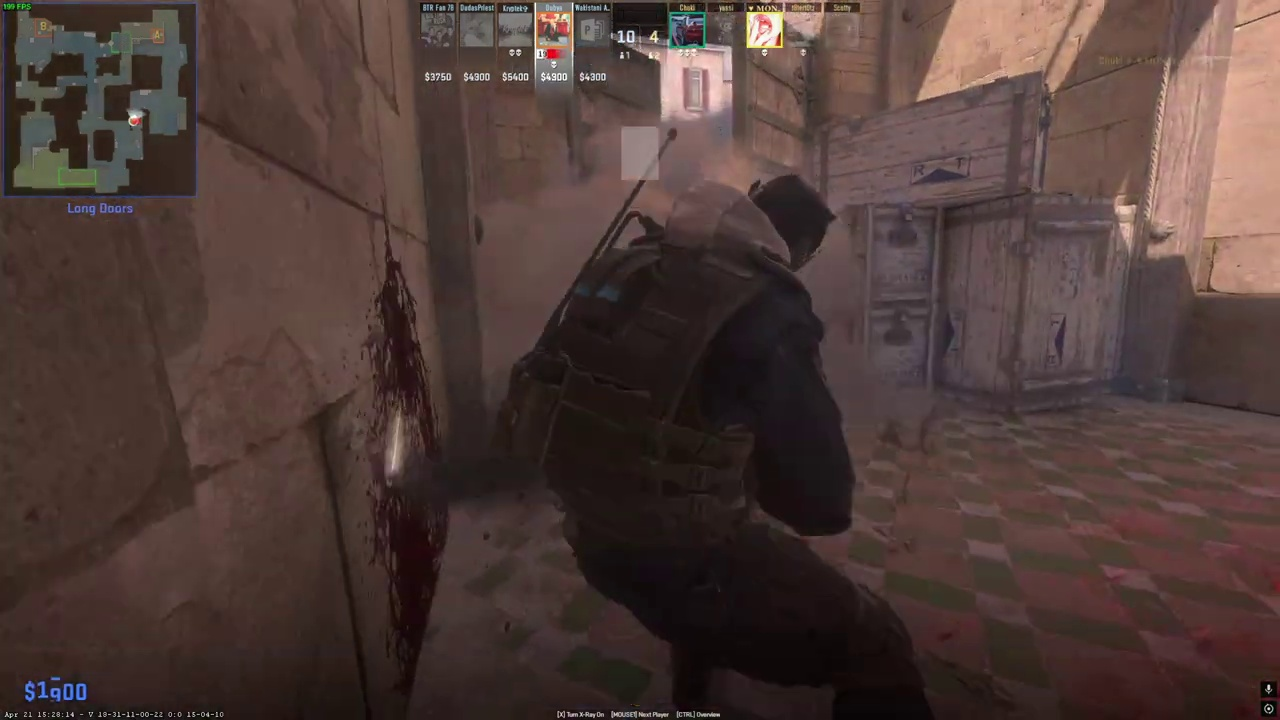CT: (541, 167, 893, 720)
